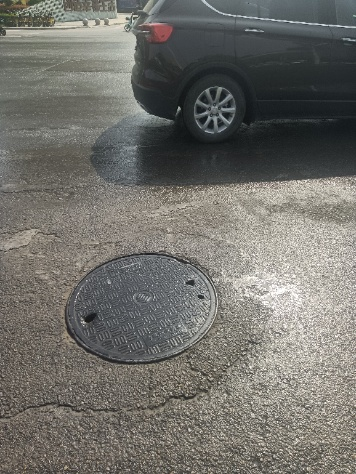good: (65, 251, 218, 364)
